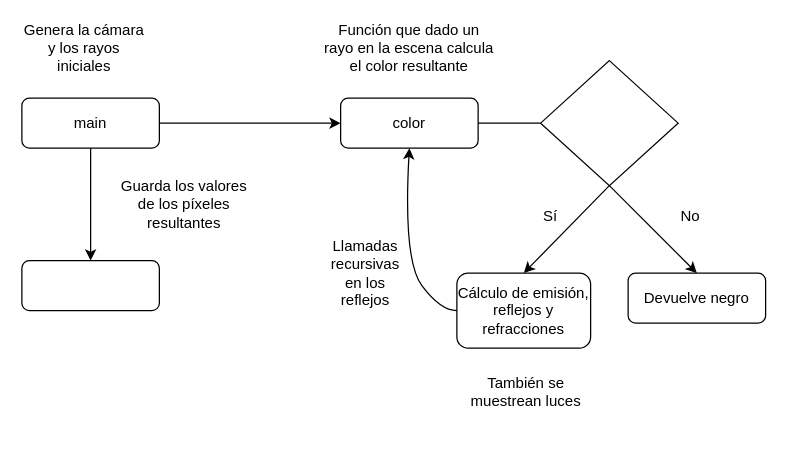
This 788x458 diagram has some shape labels left out. Each missing label, with the box of its shape:
archivo.ppm: (21, 259, 159, 311)
¿Interseca en algún objeto?: (539, 59, 678, 186)
